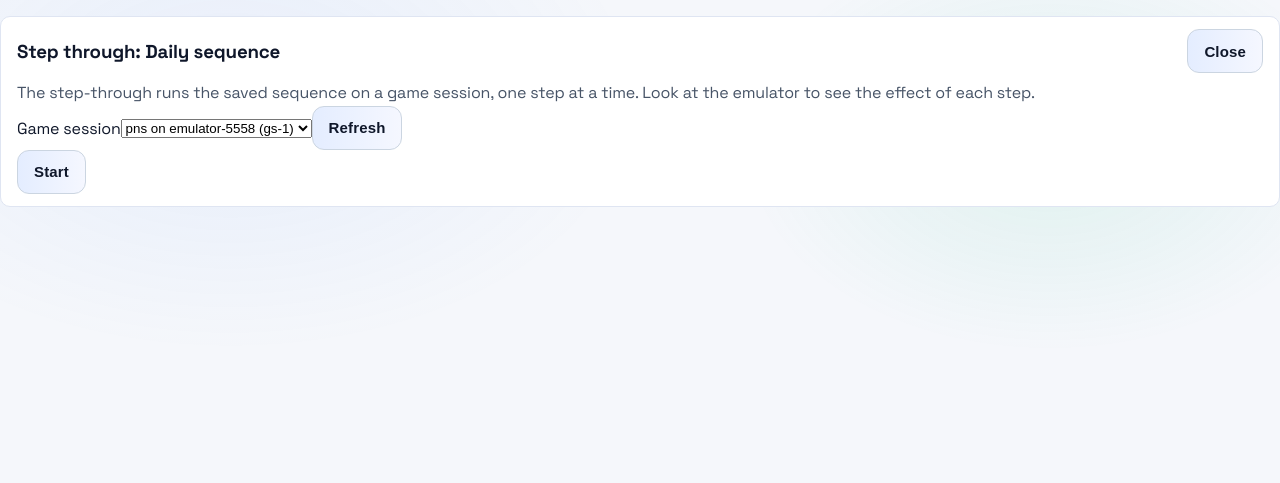
Test: StepThroughPanel manual selection › shows the last status of a step in its row
Click the button "Start" at coordinates (51, 172), box top-left (17, 150), bottom-right (86, 194)
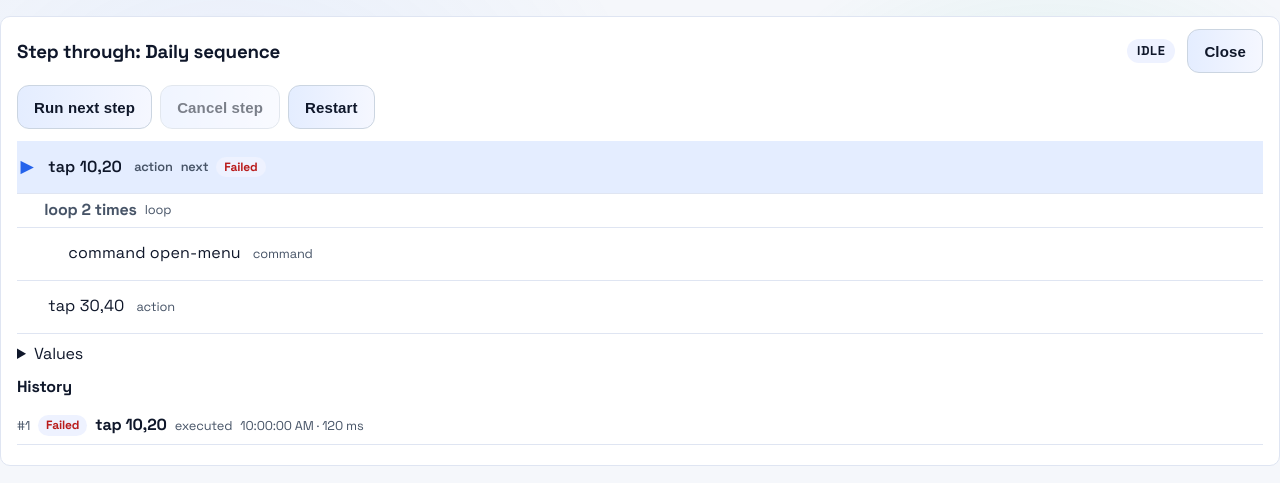
Result: the list named "Steps" is shown at top-left (17, 141), bottom-right (1263, 334)
Result: the 1st text "Failed" is shown at top-left (216, 157), bottom-right (266, 177)
